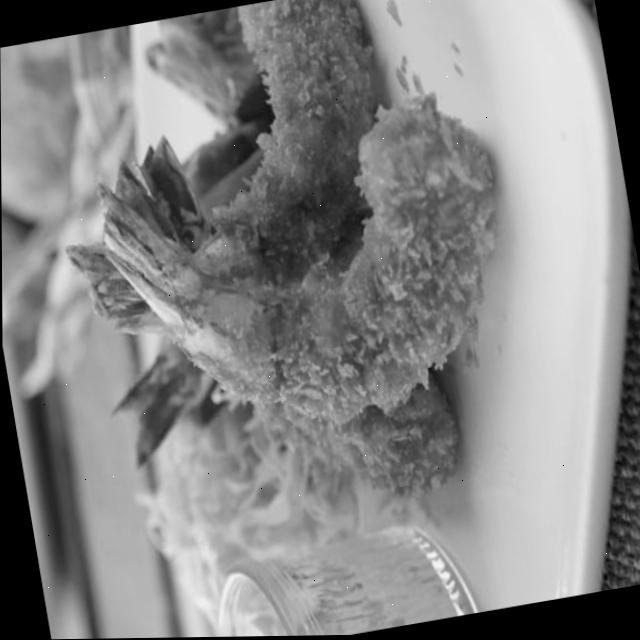炸货点心: (23, 0, 556, 571)
熟制海鲜: (23, 0, 556, 571)
